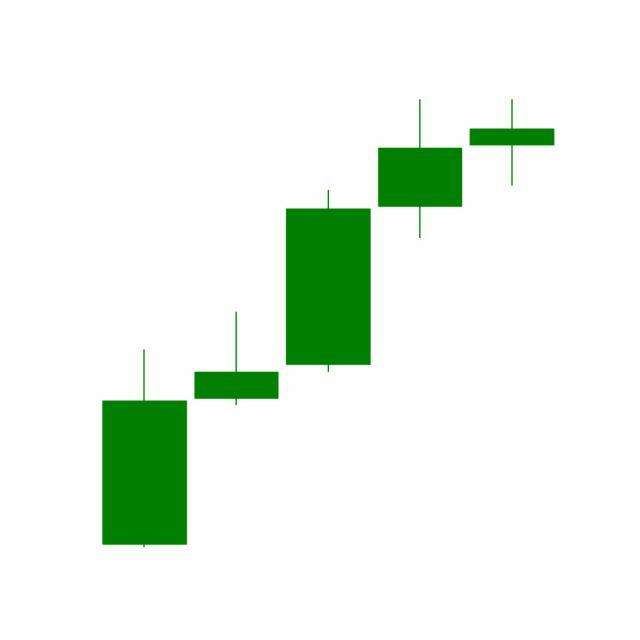Advance Block: (280, 100, 555, 378)
